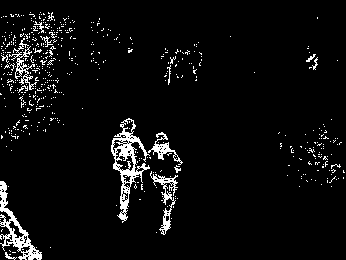person: (144, 129, 184, 235), (111, 116, 147, 222)
